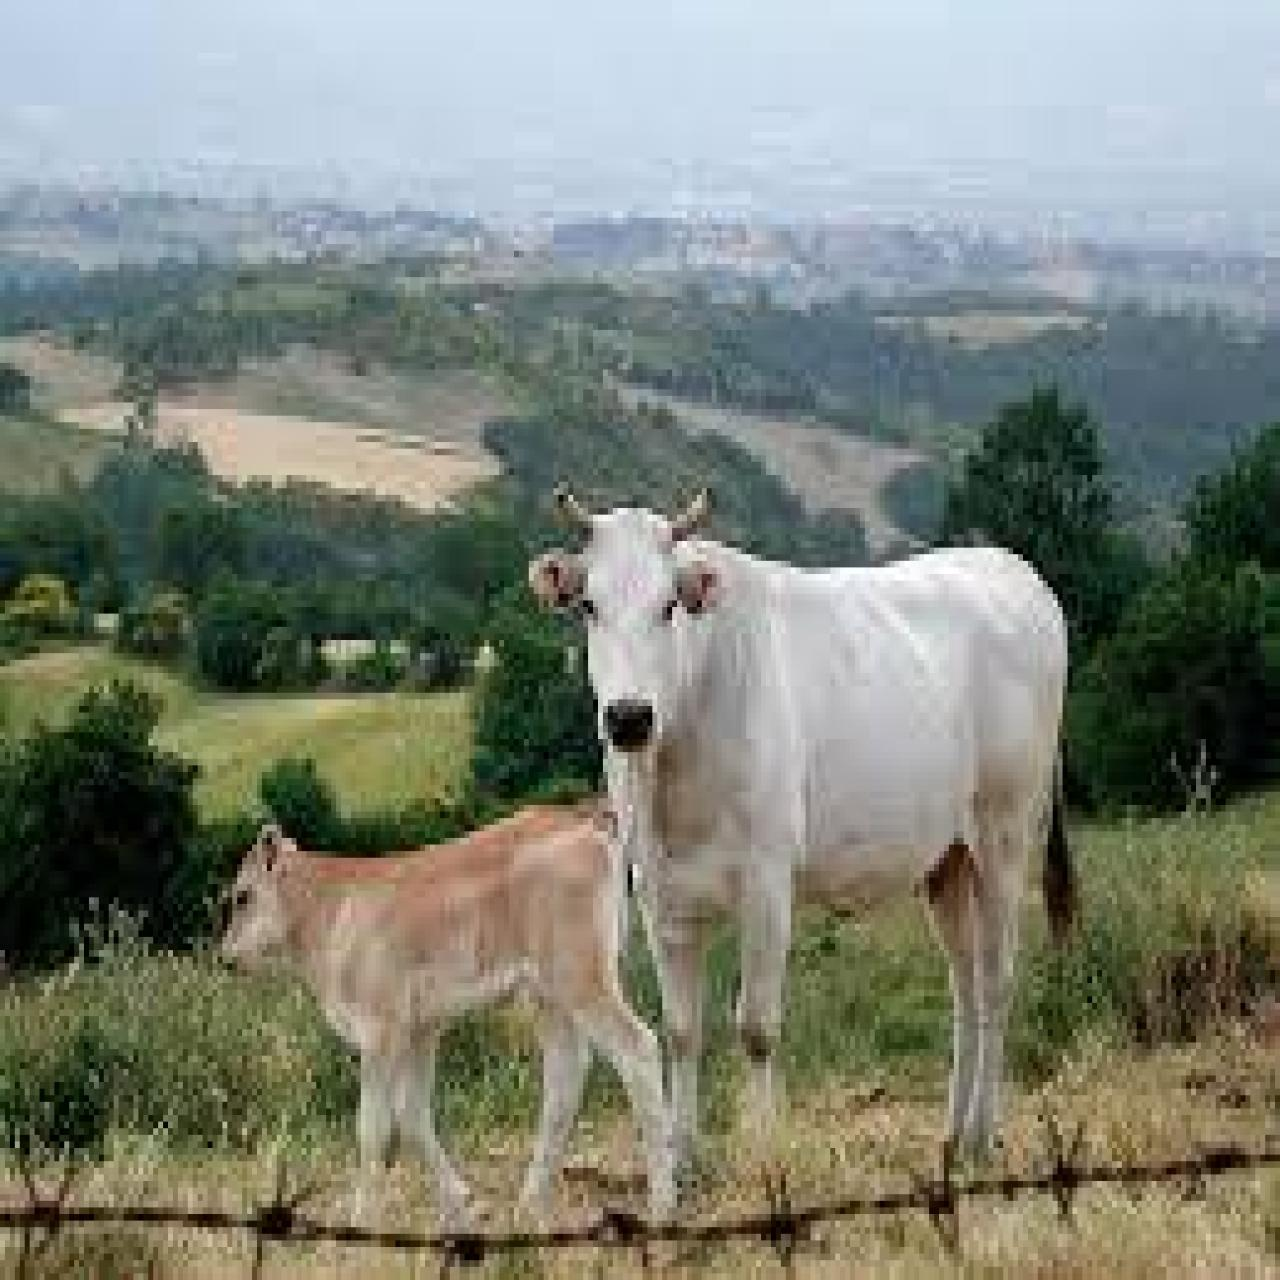cow: (522, 482, 1080, 1182), (215, 795, 685, 1231)
